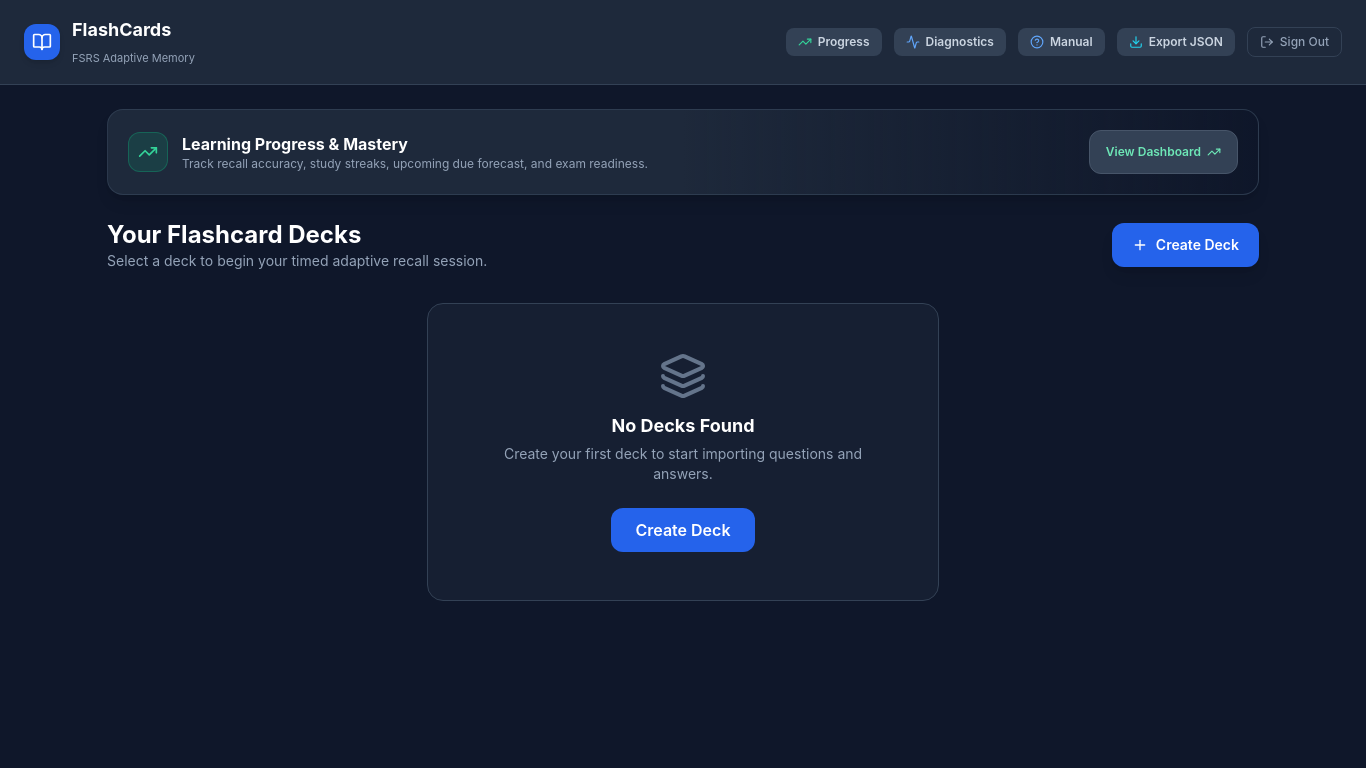
Scenario: App Shell (ARC-001..ARC-010, AUT-002, ARC-006) › DIA-001: Navigates to diagnostics view when Diagnostics button is clicked
The image size is (1366, 768).
Click the button "Diagnostics". click: {"x": 950, "y": 42}
box: [894,28,1006,56]
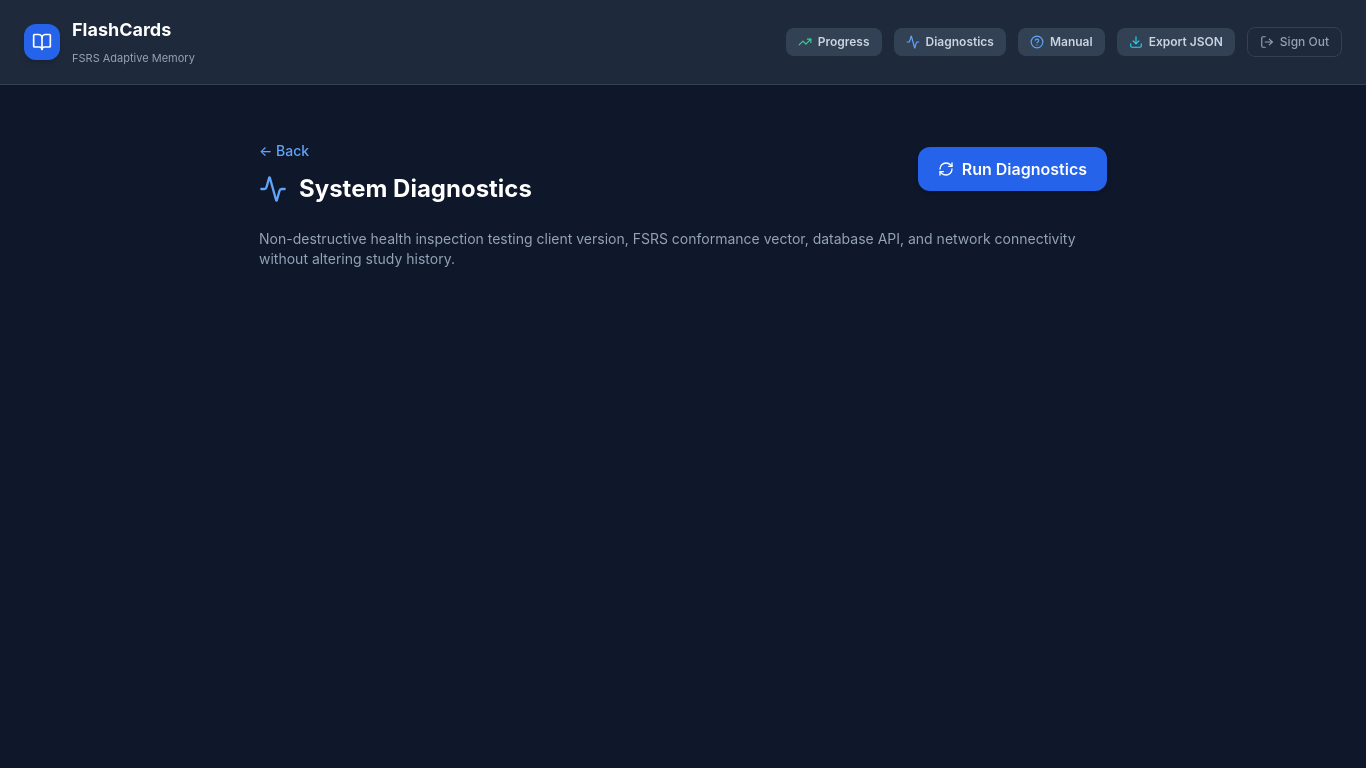
Now the text "System Diagnostics" is shown, box [299,173,532,205]
